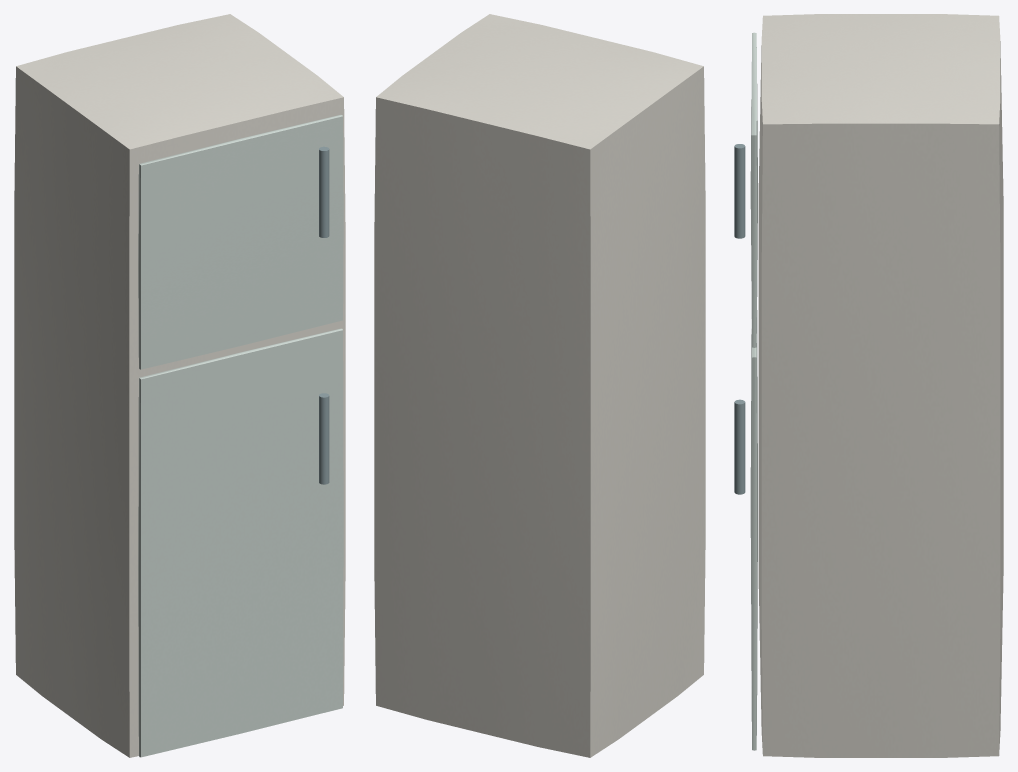
File: fridge.glb
3 renders of one model, left to right at view 1: azimuth 30°, elevation 25°; view 2: azimuth 150°, elevation 25°; view 3: azimuth 270°, elevation 25°, orthographic. The views are drawn at different scales.
Parts seen in each view (by area): view 1: fridge; view 2: fridge; view 3: fridge.
Boxes of the visible parts, left/top/right/bottom form: fridge: left=14, top=14, right=345, bottom=757; fridge: left=374, top=14, right=705, bottom=757; fridge: left=734, top=14, right=1003, bottom=757.
Bounding box in the file's own units: 0.64 × 1.7 × 0.648.
Materials: 5 (5 with a texture image).
